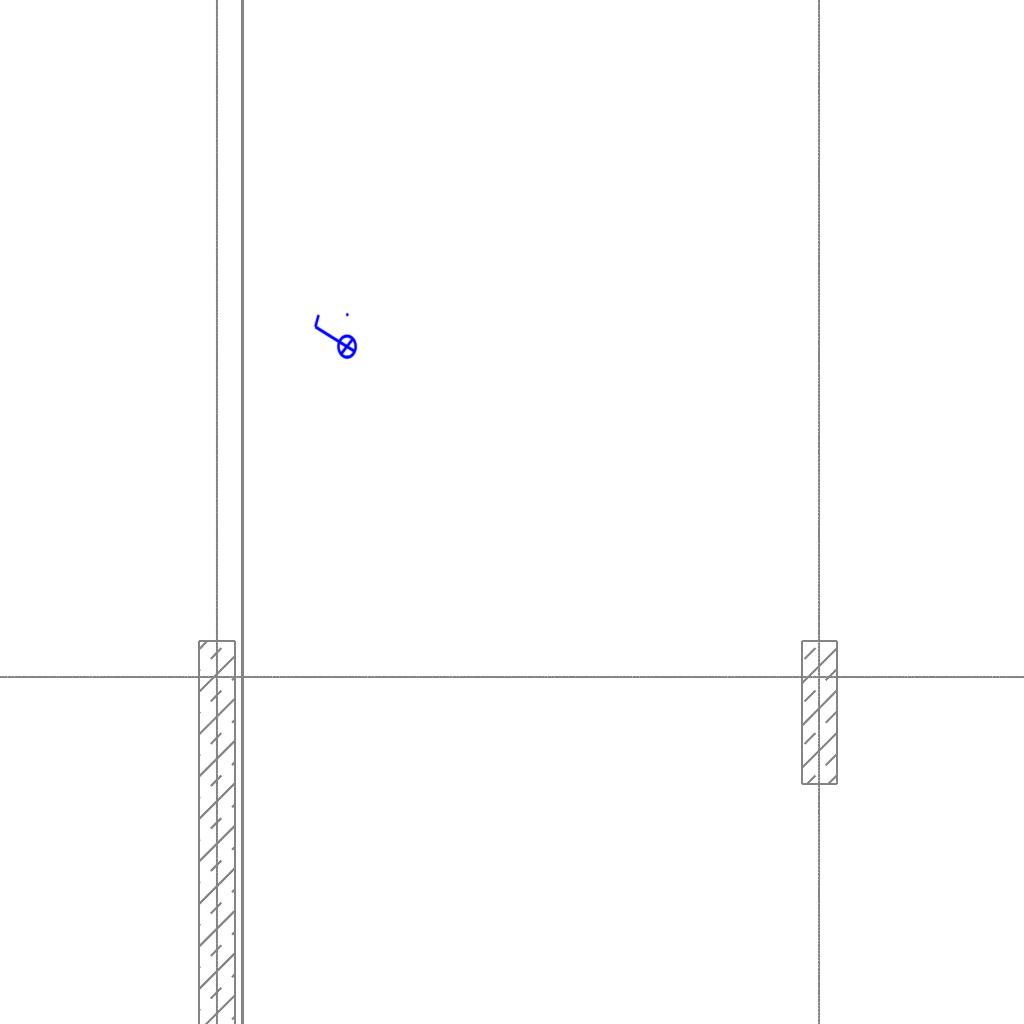Ausschalter_beleuchtet: (310, 310, 358, 366)
